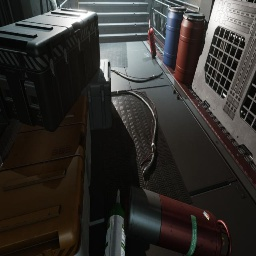0: (104, 189, 126, 256), (0, 156, 3, 169)
FireExtinguisher ]: (148, 19, 157, 58)
NitrogenTank ,: (124, 184, 232, 256)
